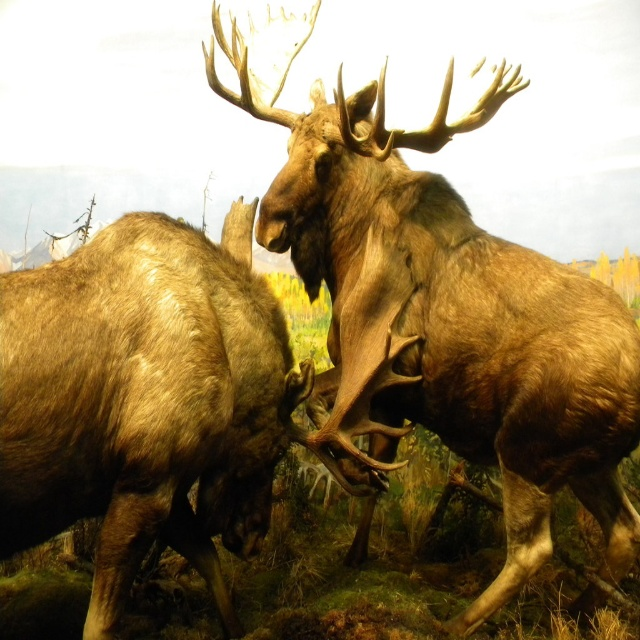Deer: (202, 0, 640, 640), (0, 195, 422, 640)
